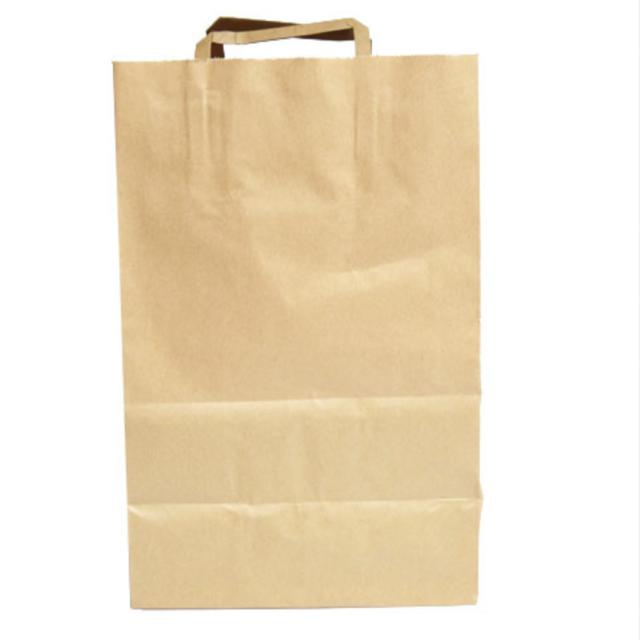biodegradable: (59, 3, 581, 629)
